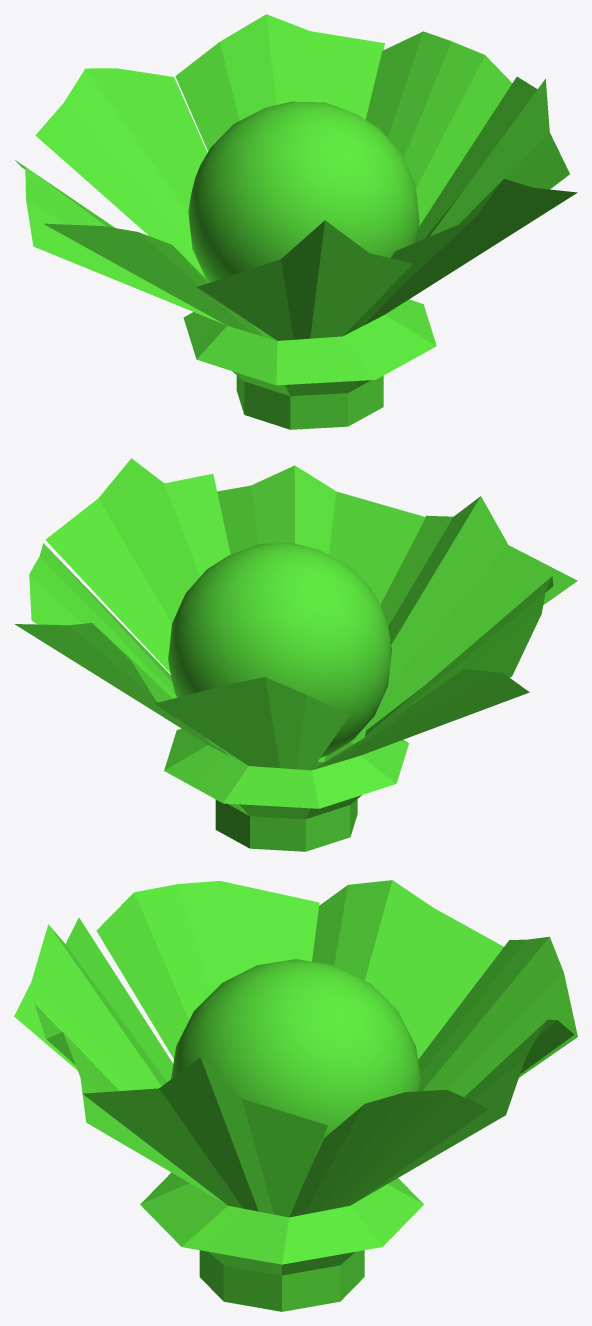
Rendered from cobbage.fbx.
The picture shows the model from 3 angles, top to bottom: view 1: azimuth 30°, elevation 25°; view 2: azimuth 150°, elevation 25°; view 3: azimuth 270°, elevation 25°; orthographic projection. The views are drawn at different scales.
Visible parts, largest first — view 1: Circle; view 2: Circle; view 3: Circle.
Boxes of the visible parts, left/top/right/bottom form: Circle: left=14, top=14, right=577, bottom=429; Circle: left=14, top=458, right=577, bottom=851; Circle: left=14, top=880, right=577, bottom=1311.
Size of the model in its own units: 21.13 by 12.3 by 19.35.
